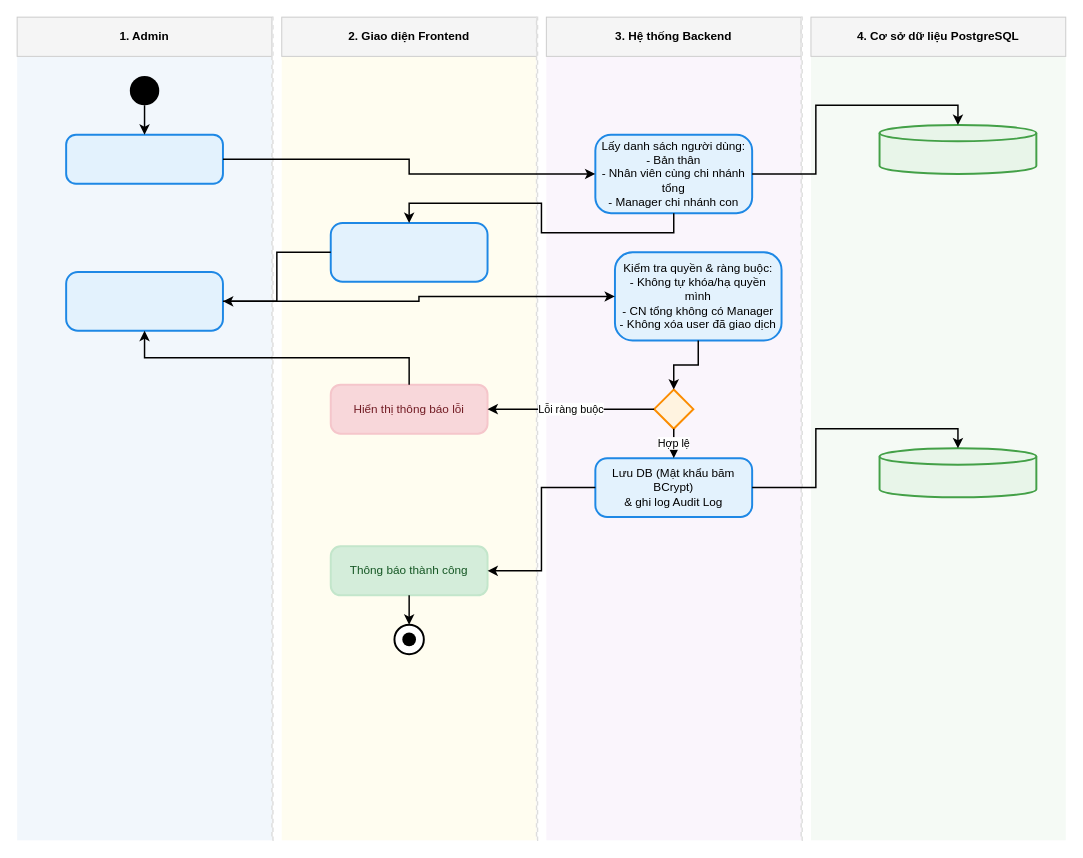
This 1083x858 diagram has some shape labels left out. Here are the shapes that lost their labels. From the top down, the box of each, then its label:
(65, 133, 223, 184): Mở module Quản lý người dùng
(878, 123, 1037, 174): Bảng Users
(329, 221, 488, 282): Hiển thị danh sách nhân viên lọc & các nút Thêm/Sửa/Khóa
(65, 270, 223, 331): Thực hiện CRUD/Khóa nhân viên
(878, 447, 1037, 498): Bảng Users & Audit Logs
